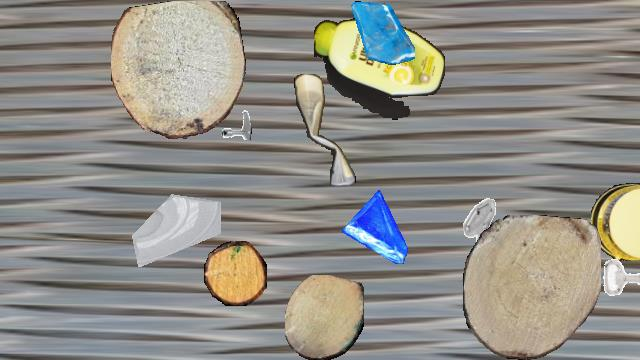glass: (128, 174, 220, 266), (342, 190, 416, 264), (351, 1, 415, 65)
metal: (449, 196, 509, 256), (597, 247, 640, 309), (210, 98, 252, 140)
plastic: (314, 18, 444, 120), (294, 74, 356, 186), (591, 183, 640, 261)
wood: (463, 215, 601, 359), (111, 1, 245, 139), (285, 275, 363, 359), (204, 241, 266, 305)
